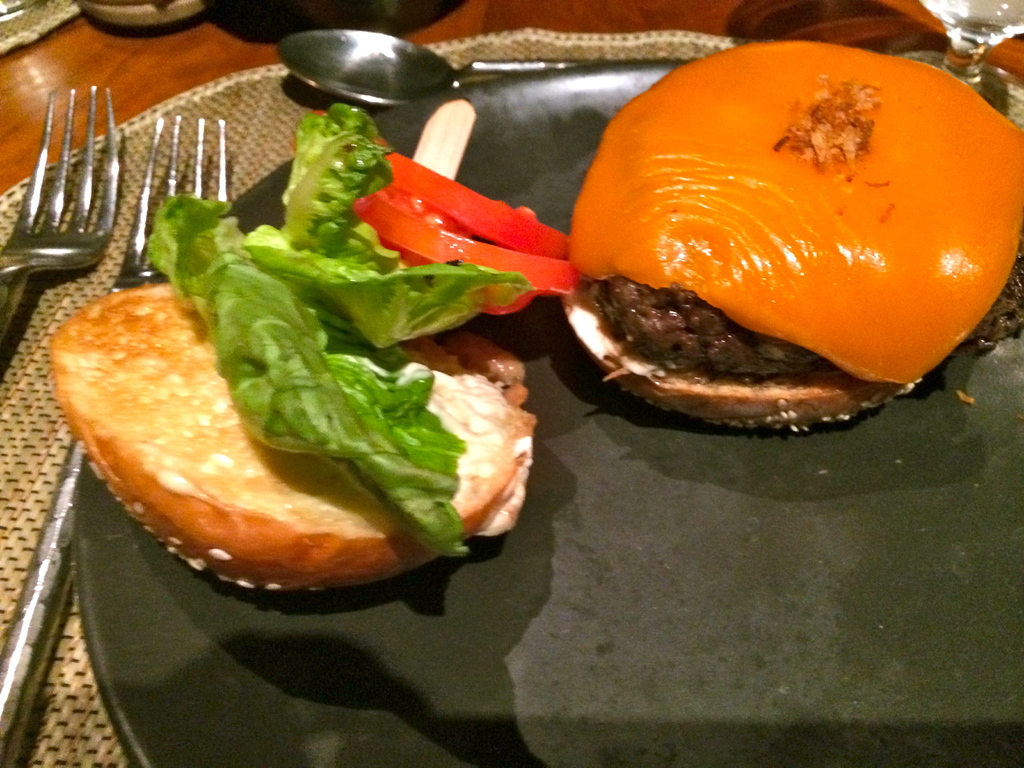Hamburger: (560, 44, 1023, 431)
